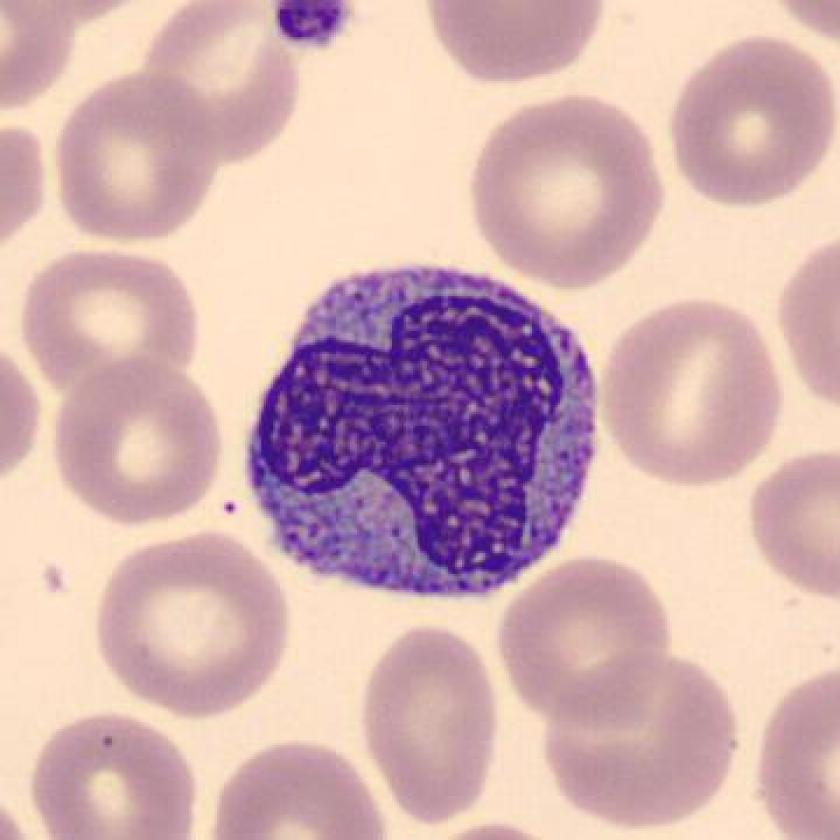monocyte: (227, 240, 617, 617)
